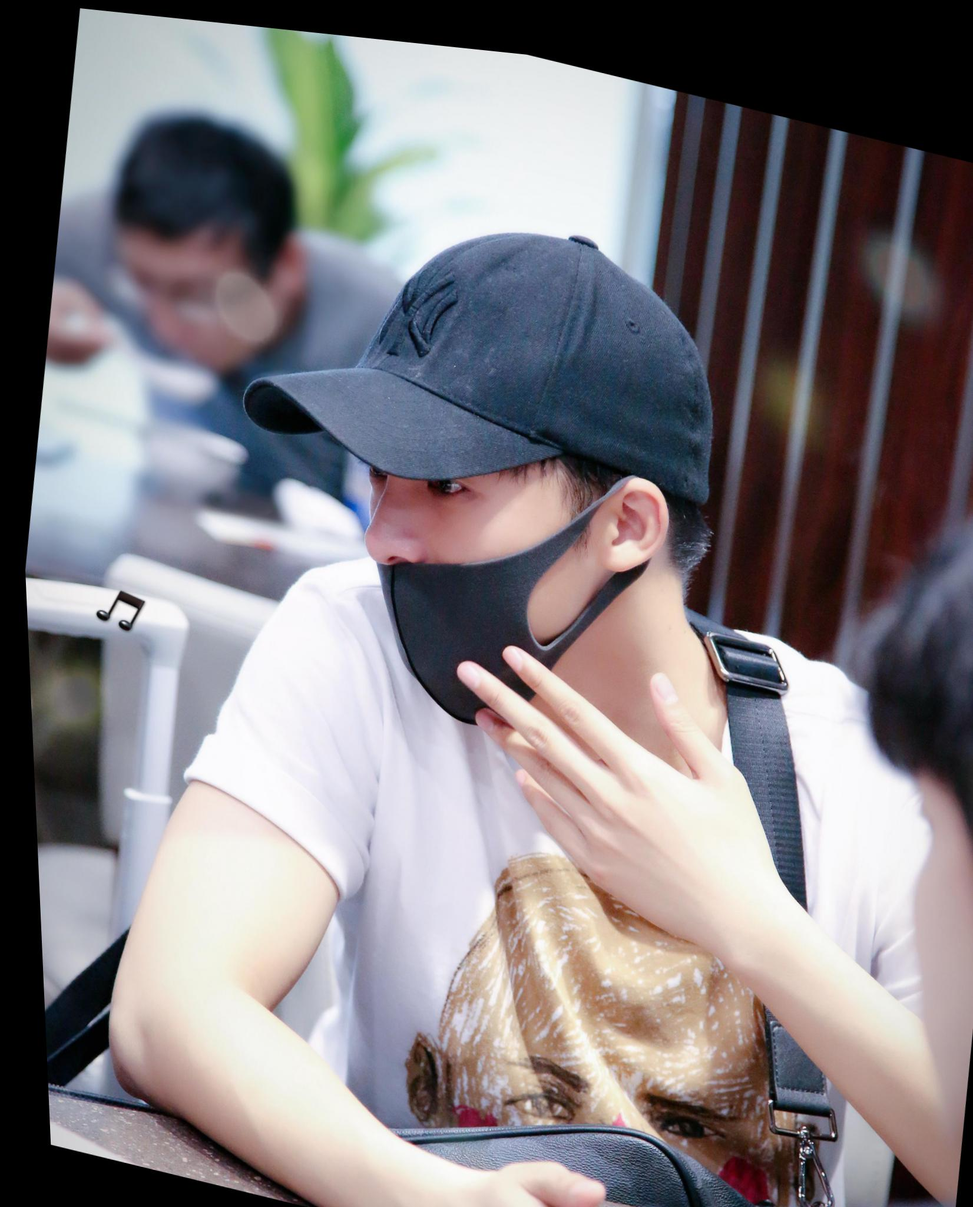NONE: (105, 220, 268, 378)
WRONG: (319, 369, 614, 738)
